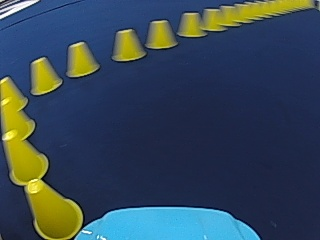cone: (0, 94, 49, 179), (24, 177, 82, 237), (2, 133, 50, 184), (0, 78, 35, 141), (29, 55, 62, 95), (66, 40, 99, 76), (111, 28, 145, 62), (0, 76, 28, 114), (145, 19, 177, 49), (177, 11, 204, 37), (217, 5, 239, 26), (202, 8, 222, 31)
